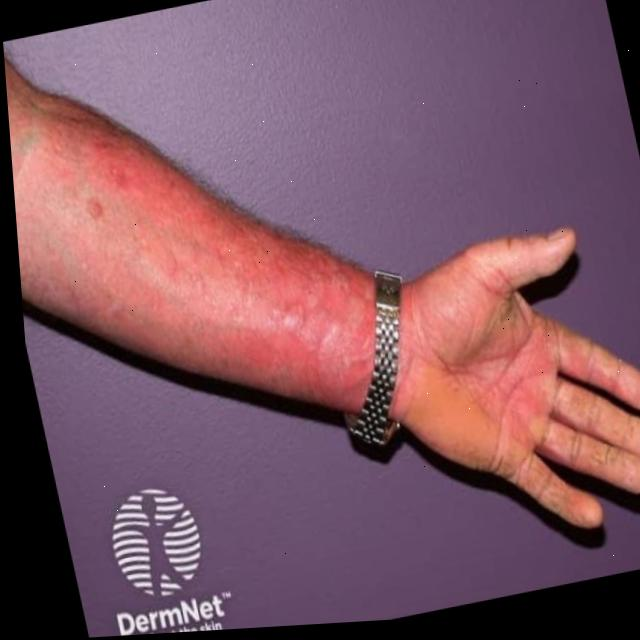Eczema: (6, 60, 424, 473)
